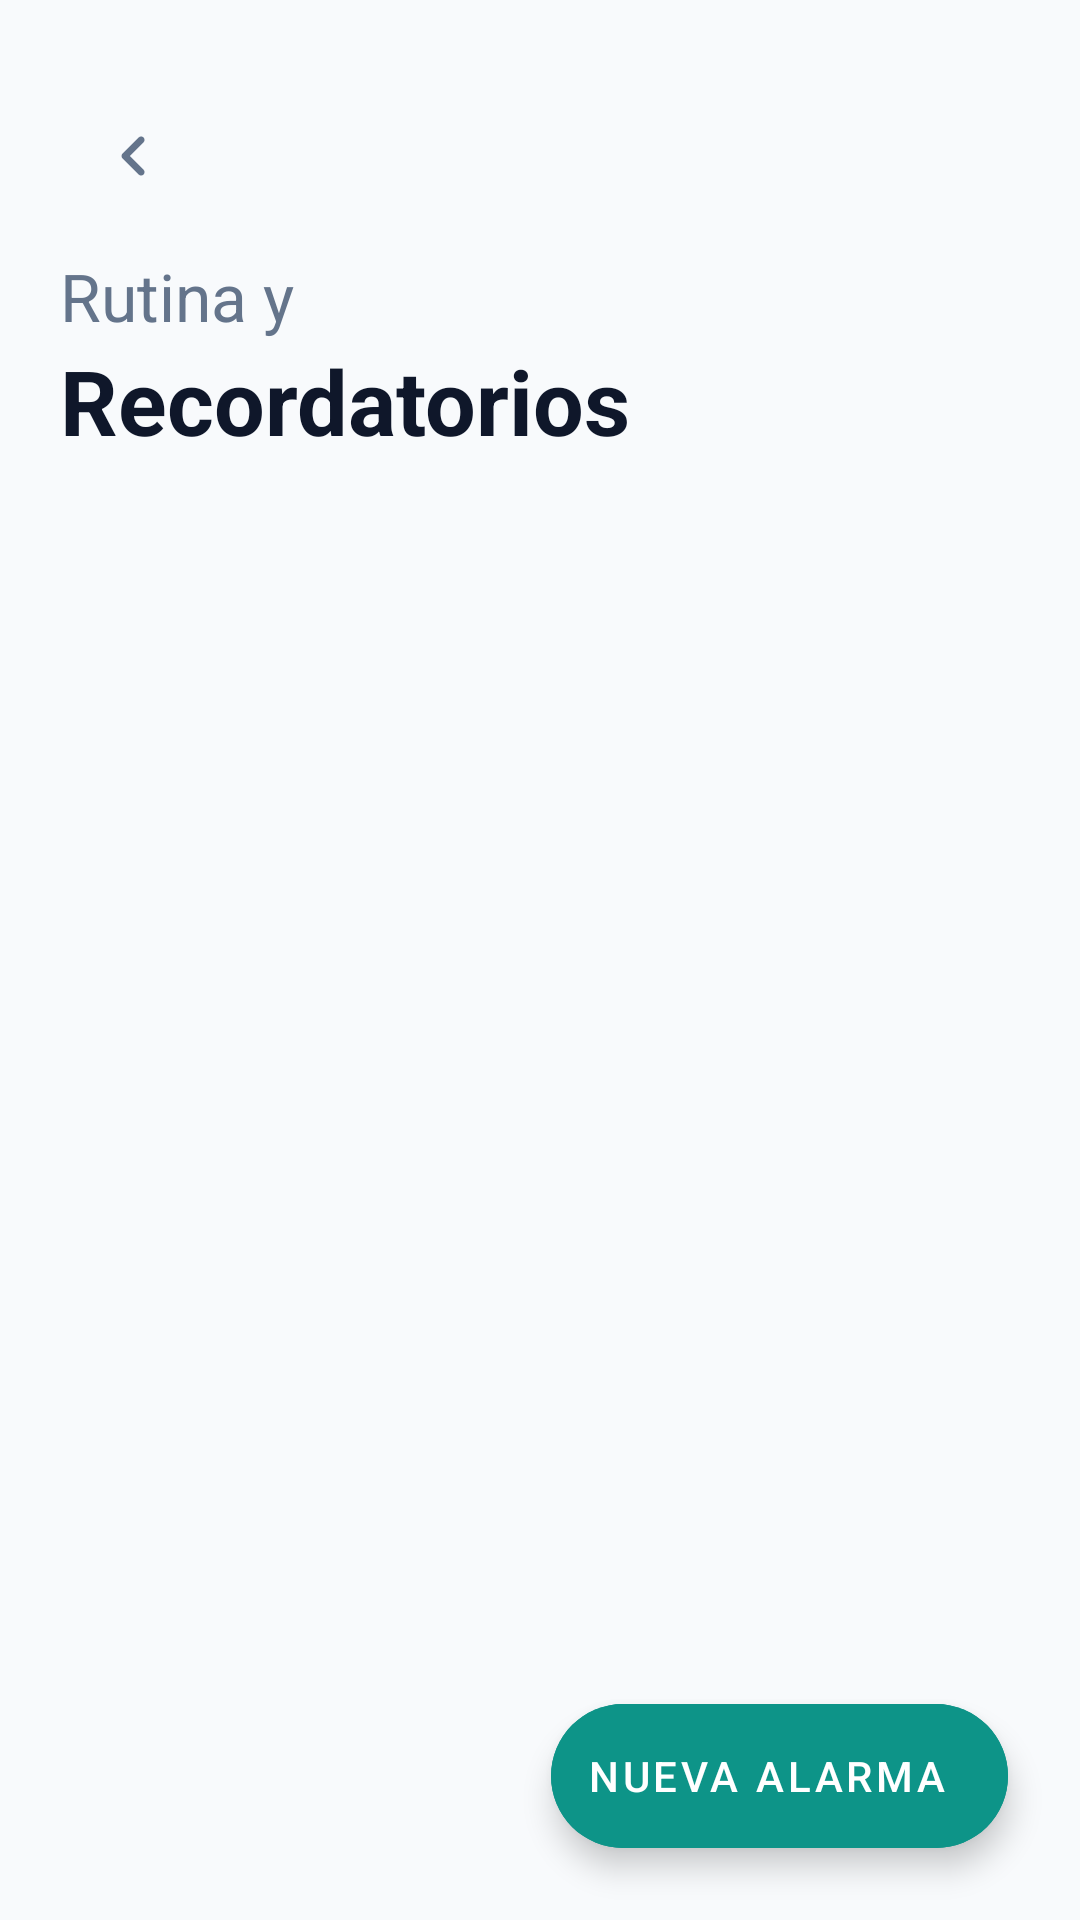

Where to tap for icons on this 1080*1920 app screen, as (x,y):
Volver: (133,156)
